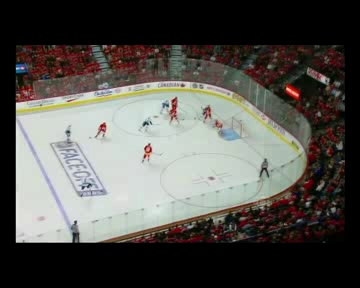normal: (157, 91, 185, 131), (134, 137, 162, 167), (91, 116, 114, 143)
